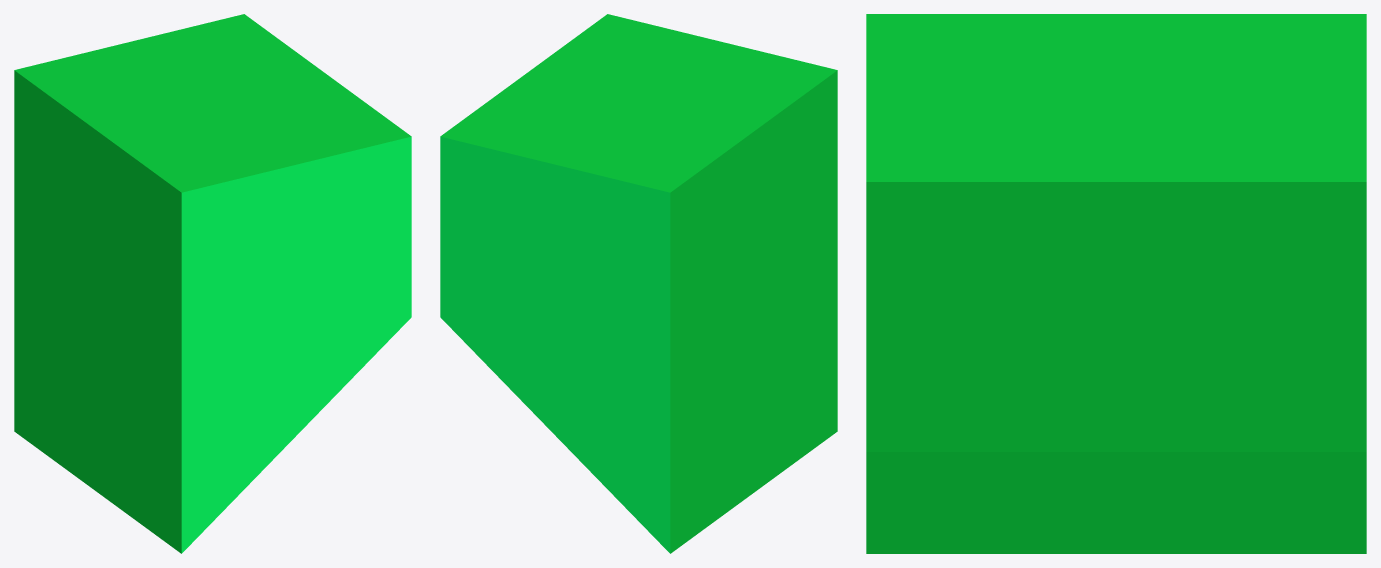
File: symbol,_DeltaBlock_Green.glb
3 renders of one model, left to right at view 1: azimuth 30°, elevation 25°; view 2: azimuth 150°, elevation 25°; view 3: azimuth 270°, elevation 25°, orthographic. The views are drawn at different scales.
Visible parts, largest first — view 1: ,_DeltaBlock_Green; view 2: ,_DeltaBlock_Green; view 3: ,_DeltaBlock_Green.
Part boxes in pixels (bbox=[...]): ,_DeltaBlock_Green: bbox=[14, 14, 411, 553]; ,_DeltaBlock_Green: bbox=[440, 14, 837, 553]; ,_DeltaBlock_Green: bbox=[866, 14, 1366, 553].
Size of what is drawn, in the model's own units: 0.0357 by 0.0536 by 0.045.
2 materials, 2 textured.
